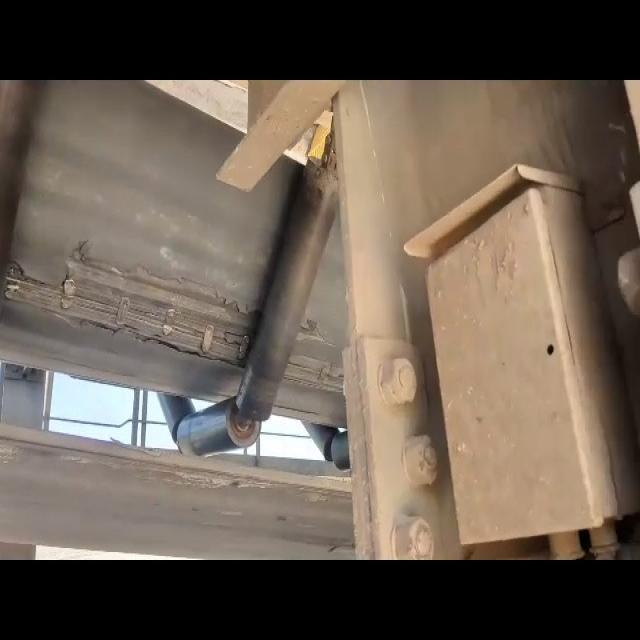Tear: (0, 236, 266, 375), (285, 310, 349, 397)
